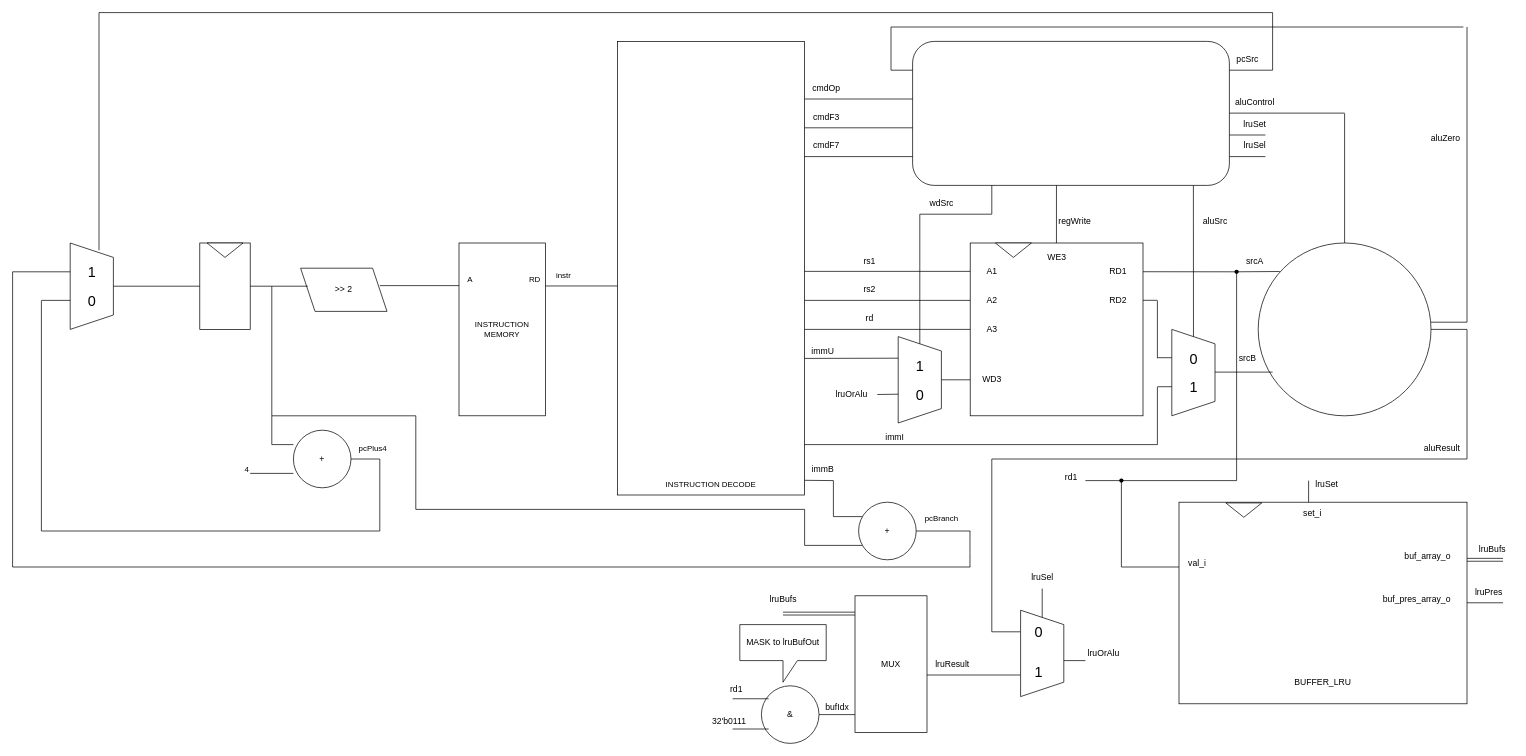
This 1526x756 diagram has some shape labels left out. The shapes that lost their labels are listed below. From the top down, each one's box as (x1, y1, x2, y2) in pixels, then its label:
(912, 41, 1229, 185): CONTROL UNIT
(199, 242, 250, 329): PC
(969, 242, 1143, 416): REGISTER FILE
(1257, 242, 1431, 416): ALU
